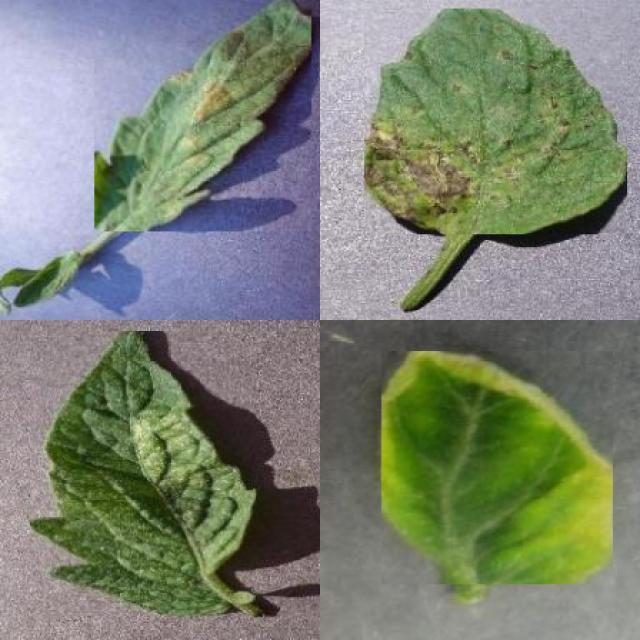Leaf Mold: (94, 0, 311, 231)
Septoria: (365, 9, 628, 234)
Spider Mites: (31, 330, 256, 616)
Yellow Leaf Curl Virus: (381, 350, 613, 584)
